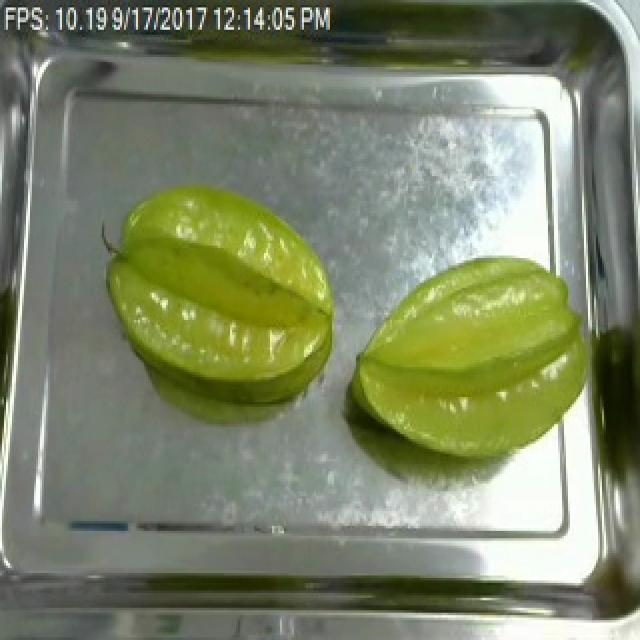fruit: (342, 250, 602, 472), (92, 171, 346, 397)
